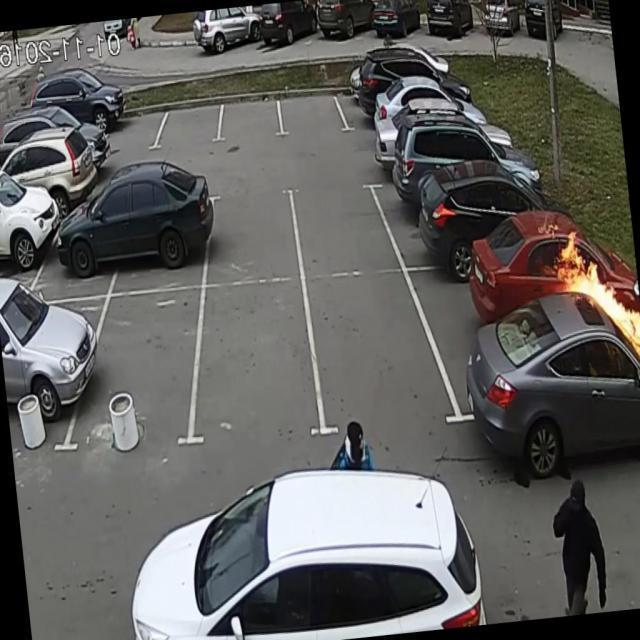space-empty: (310, 262, 445, 447), (202, 275, 318, 442), (209, 177, 303, 294), (292, 178, 390, 277), (218, 87, 283, 149), (279, 89, 348, 145), (158, 98, 227, 154)
space-occupied: (70, 269, 206, 468), (427, 245, 552, 417), (0, 290, 93, 476), (384, 164, 490, 264), (114, 180, 209, 291), (41, 183, 120, 286), (342, 72, 409, 139), (99, 96, 162, 155)
